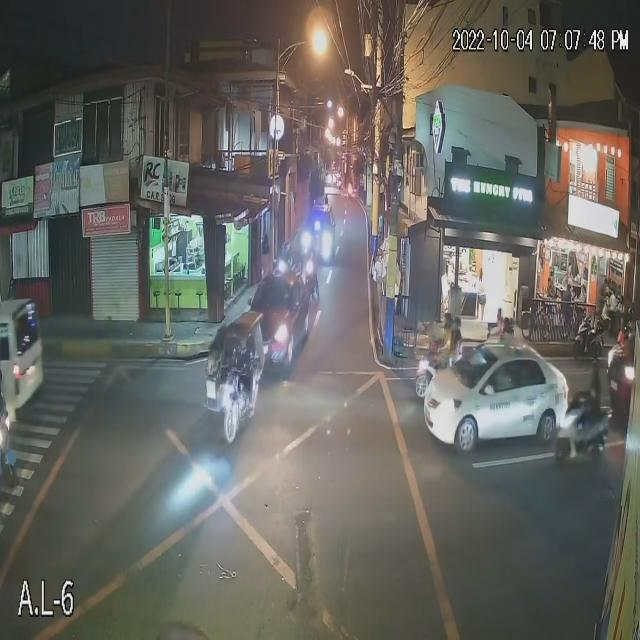helmet: (452, 317, 463, 330), (442, 313, 450, 327)
motorcycle: (552, 406, 614, 464), (572, 315, 614, 357), (414, 358, 457, 399)
rider: (585, 384, 602, 438), (437, 328, 452, 370), (449, 330, 462, 363)
